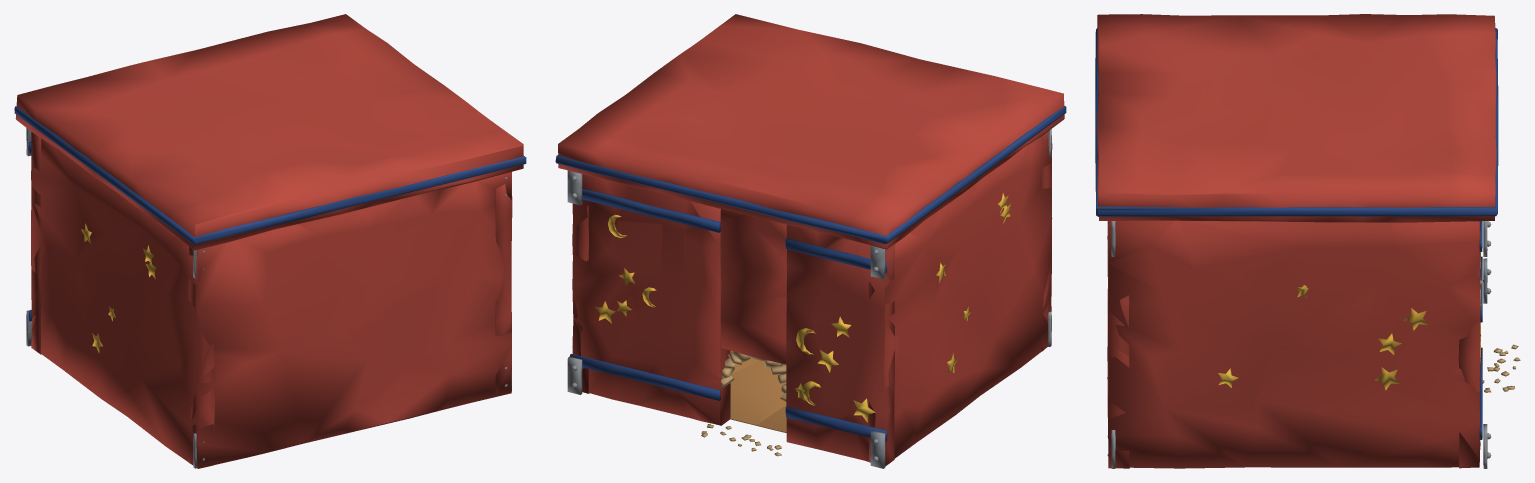
Rendered from den_toybox_lod2.glb.
3 views of the same model, side by side, from view 1: azimuth 30°, elevation 25°; view 2: azimuth 150°, elevation 25°; view 3: azimuth 270°, elevation 25° (orthographic). The views are drawn at different scales.
Visible parts, largest first — view 1: den_toybox.001; view 2: den_toybox.001; view 3: den_toybox.001.
Boxes of the visible parts, <box> form: den_toybox.001: <box>14,14,526,468</box>; den_toybox.001: <box>555,14,1066,468</box>; den_toybox.001: <box>1095,14,1520,468</box>.
Bounding box in the file's own units: 40.47 × 29.4 × 40.01.
